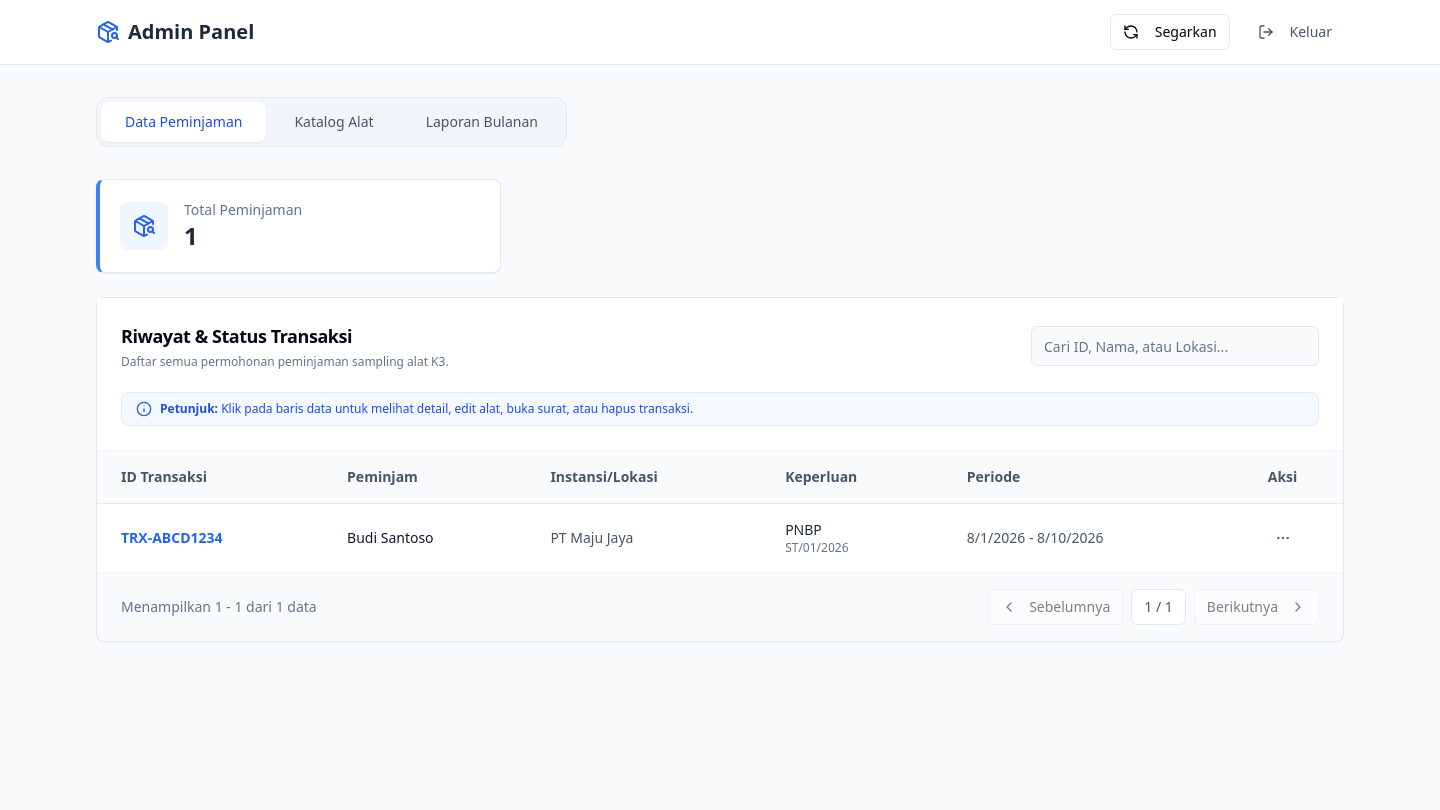
Test: AdminDashboard — Tab Transaksi & Fitur Aksi (Row-Click & ActionPanel) › harus membuka ActionPanel saat baris data transaksi diklik
The width and height of the screenshot is (1440, 810).
# Klik baris transaksi
Click the text "TRX-ABCD1234" at (210, 538), box [97, 504, 323, 572]
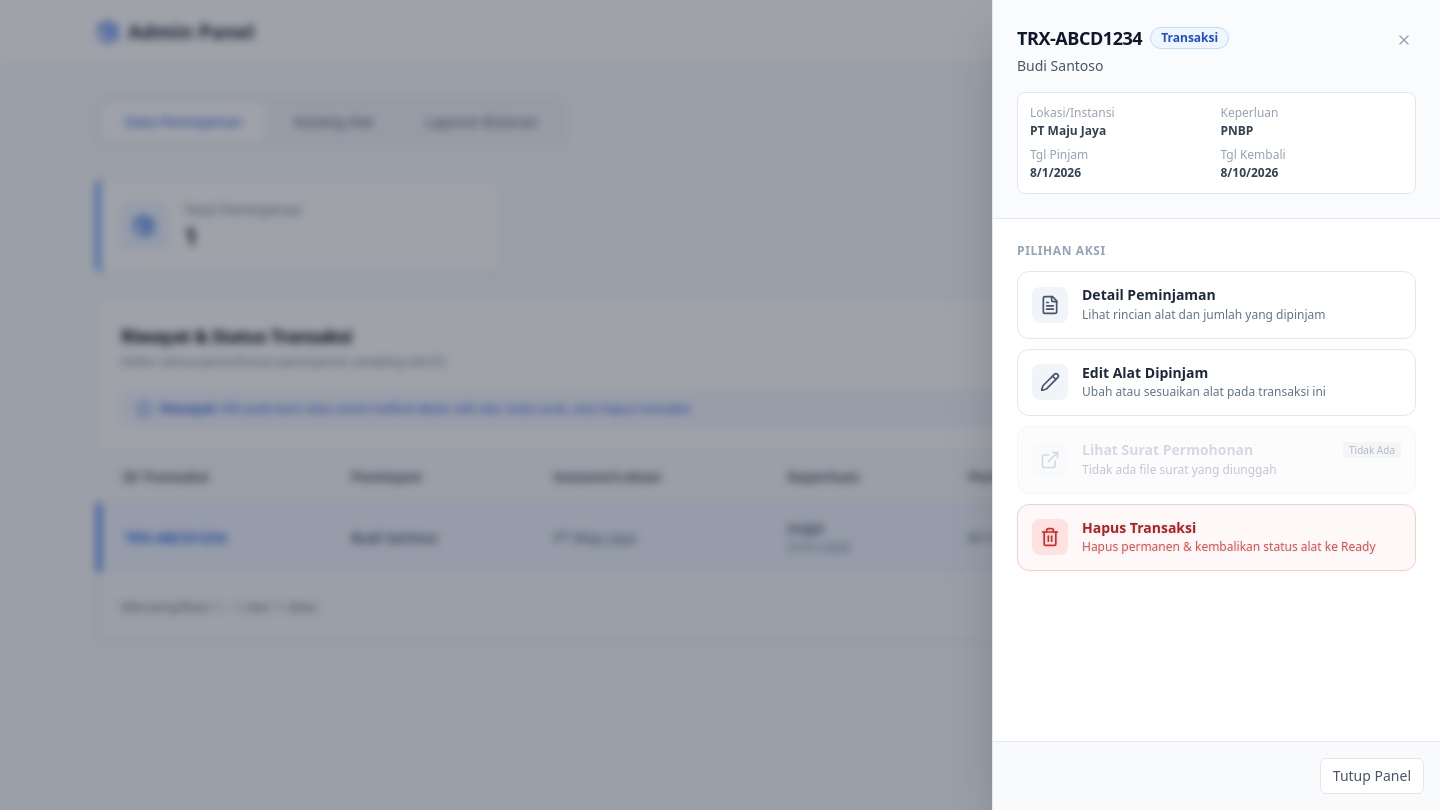
Result: the text "Pilihan Aksi" is shown at [1017, 242, 1106, 259]
Result: the button "Detail Peminjaman" is shown at [1017, 271, 1416, 338]
Result: the button "Edit Alat Dipinjam" is shown at [1017, 348, 1416, 416]
